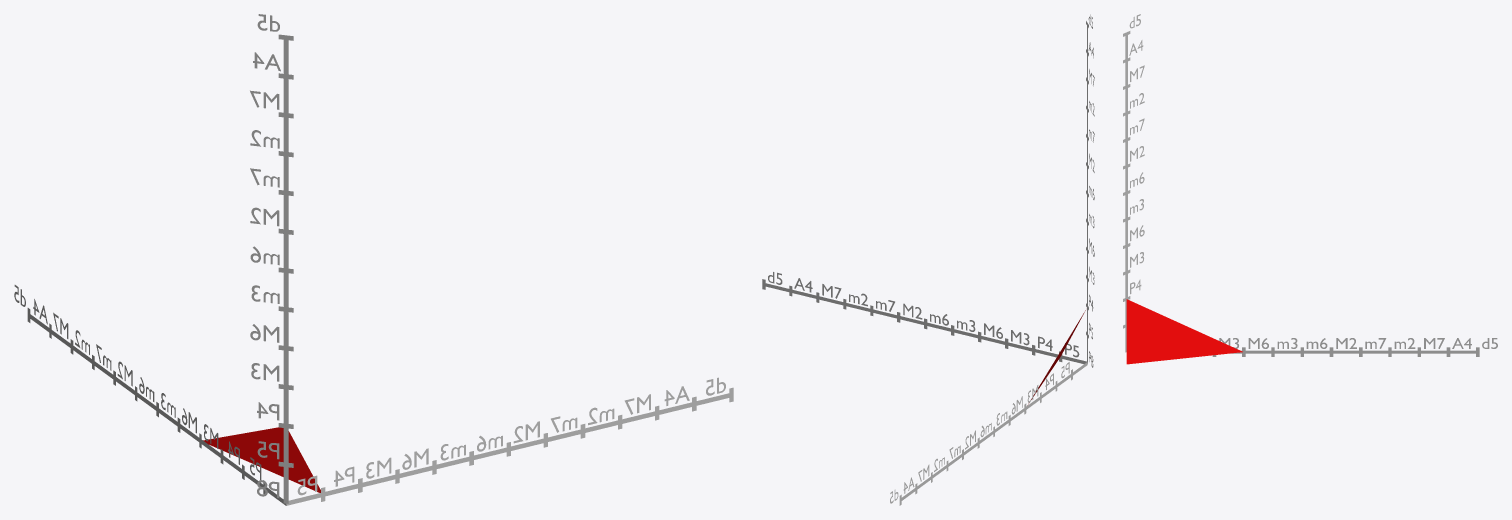
The model's file is FinalBeatTenor.glb.
3 views of the same model, side by side, from view 1: azimuth 30°, elevation 25°; view 2: azimuth 150°, elevation 25°; view 3: azimuth 270°, elevation 25° (orthographic). The views are drawn at different scales.
Parts seen in each view (by area): view 1: z axis, x axis, intervals, y axis; view 2: x axis, y axis, z axis; view 3: intervals, y axis, z axis.
Part boxes in pixels (<box>): z axis: <box>278,34,293,503</box>; x axis: <box>286,387,733,505</box>; intervals: <box>203,427,320,492</box>; y axis: <box>27,308,286,505</box>; x axis: <box>762,279,1086,363</box>; y axis: <box>899,362,1087,505</box>; z axis: <box>1086,21,1088,363</box>; intervals: <box>1126,299,1242,364</box>; y axis: <box>1212,347,1479,356</box>; z axis: <box>1123,31,1130,352</box>.
Bounding box in the file's own units: 1.06 × 1.06 × 1.07.
